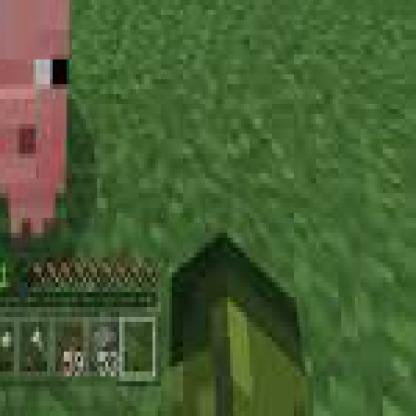minecraft-pigs: (0, 0, 86, 253)
